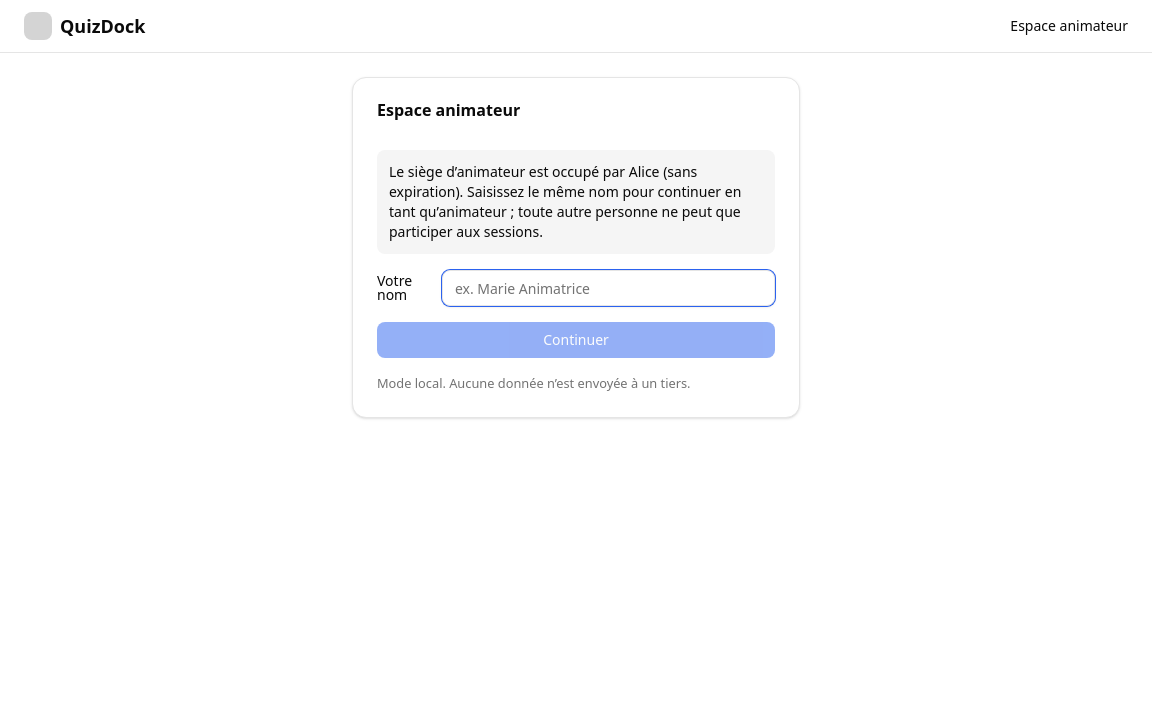
Test: LoginPage › shows the seat holder and refuses a second host (player role) without navigating
expect the message shows "Alice": met, box [389,162,741,241]
In the field labelled "Votre nom": (608, 288) [442,270,775,306], type "Bob"
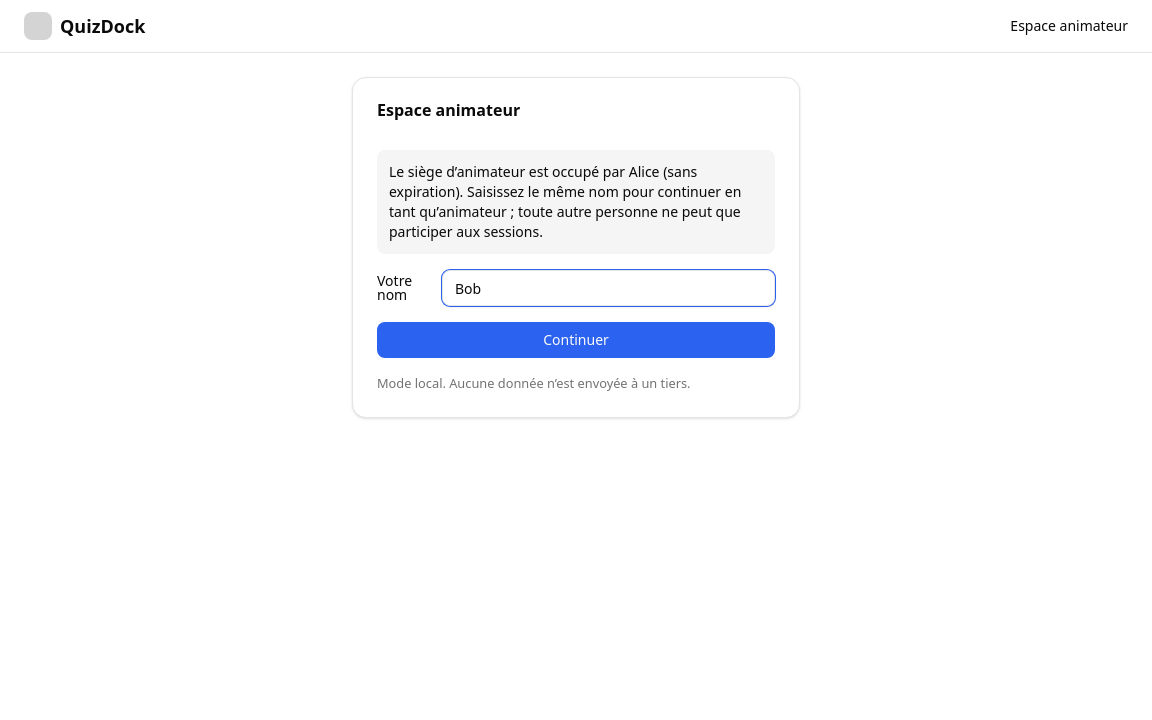
Click the button "Continuer": (576, 340) [377,322,775,358]
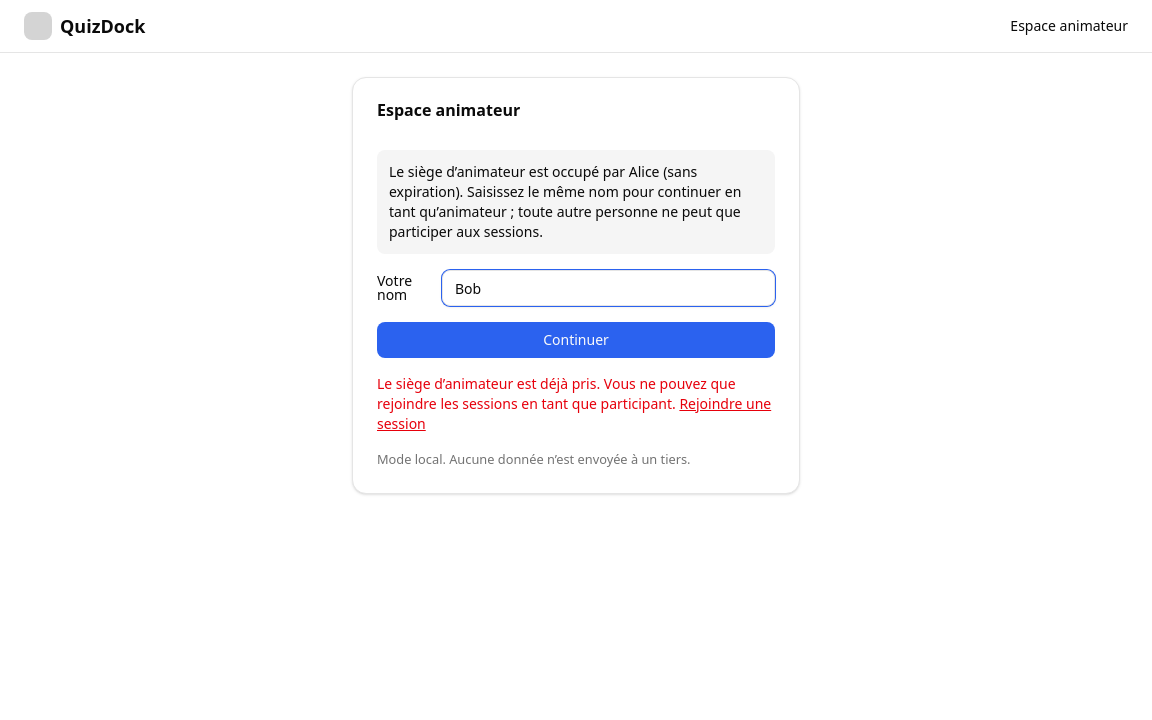
expect the 2nd message shows "déjà pris": met, box [377,374,736,413]
